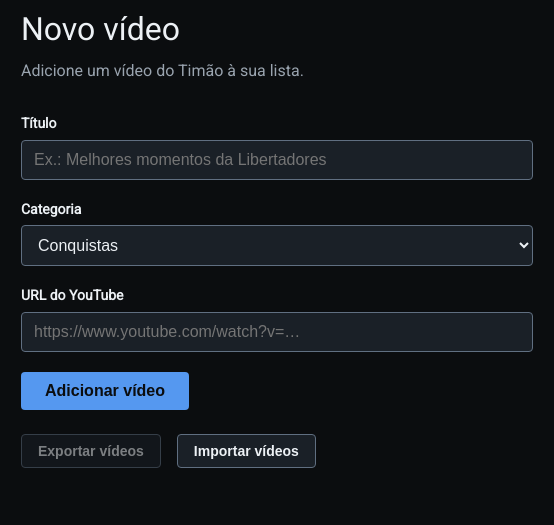
Scenario: shows a validation error for an invalid YouTube URL
Type "Vídeo inválido" into the field labelled "Título" at (277, 160), box [21,140,533,180]
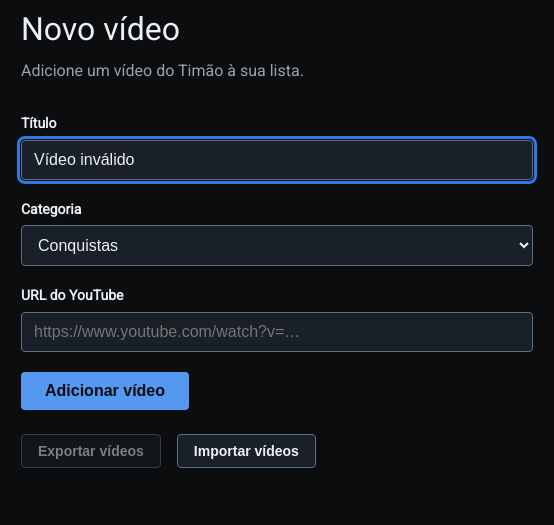
Type "not-a-url" into the field labelled "URL do YouTube" at (277, 332), box [21,312,533,352]
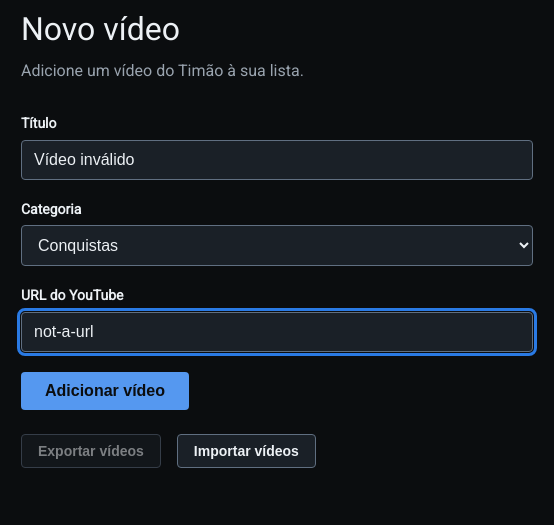
Click the button "Adicionar vídeo" at (105, 391), box [21,372,189,410]
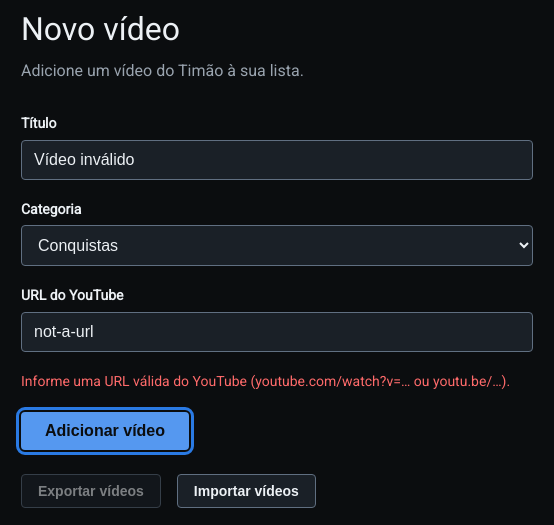
Expected: the message shows "URL", [21,373,510,389]
